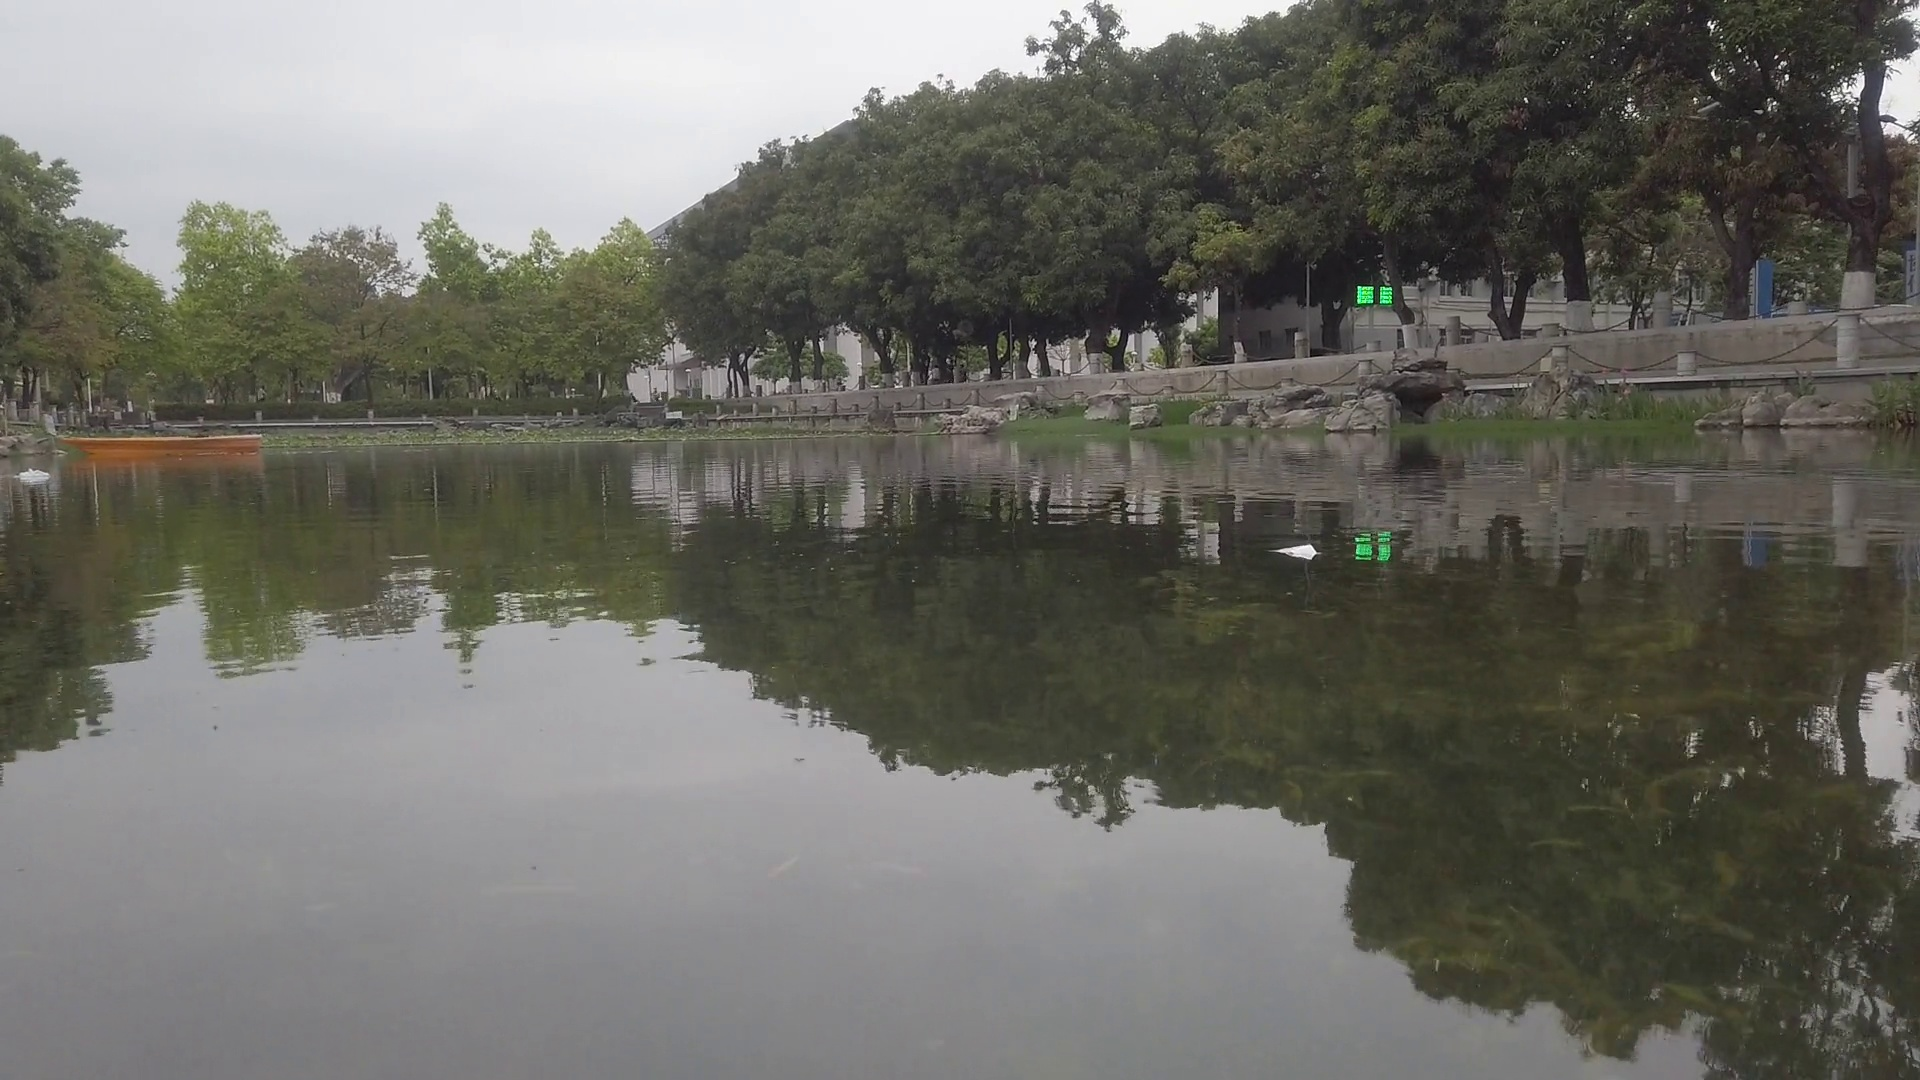paper: (1276, 539, 1319, 559)
plastic: (18, 465, 51, 484)
